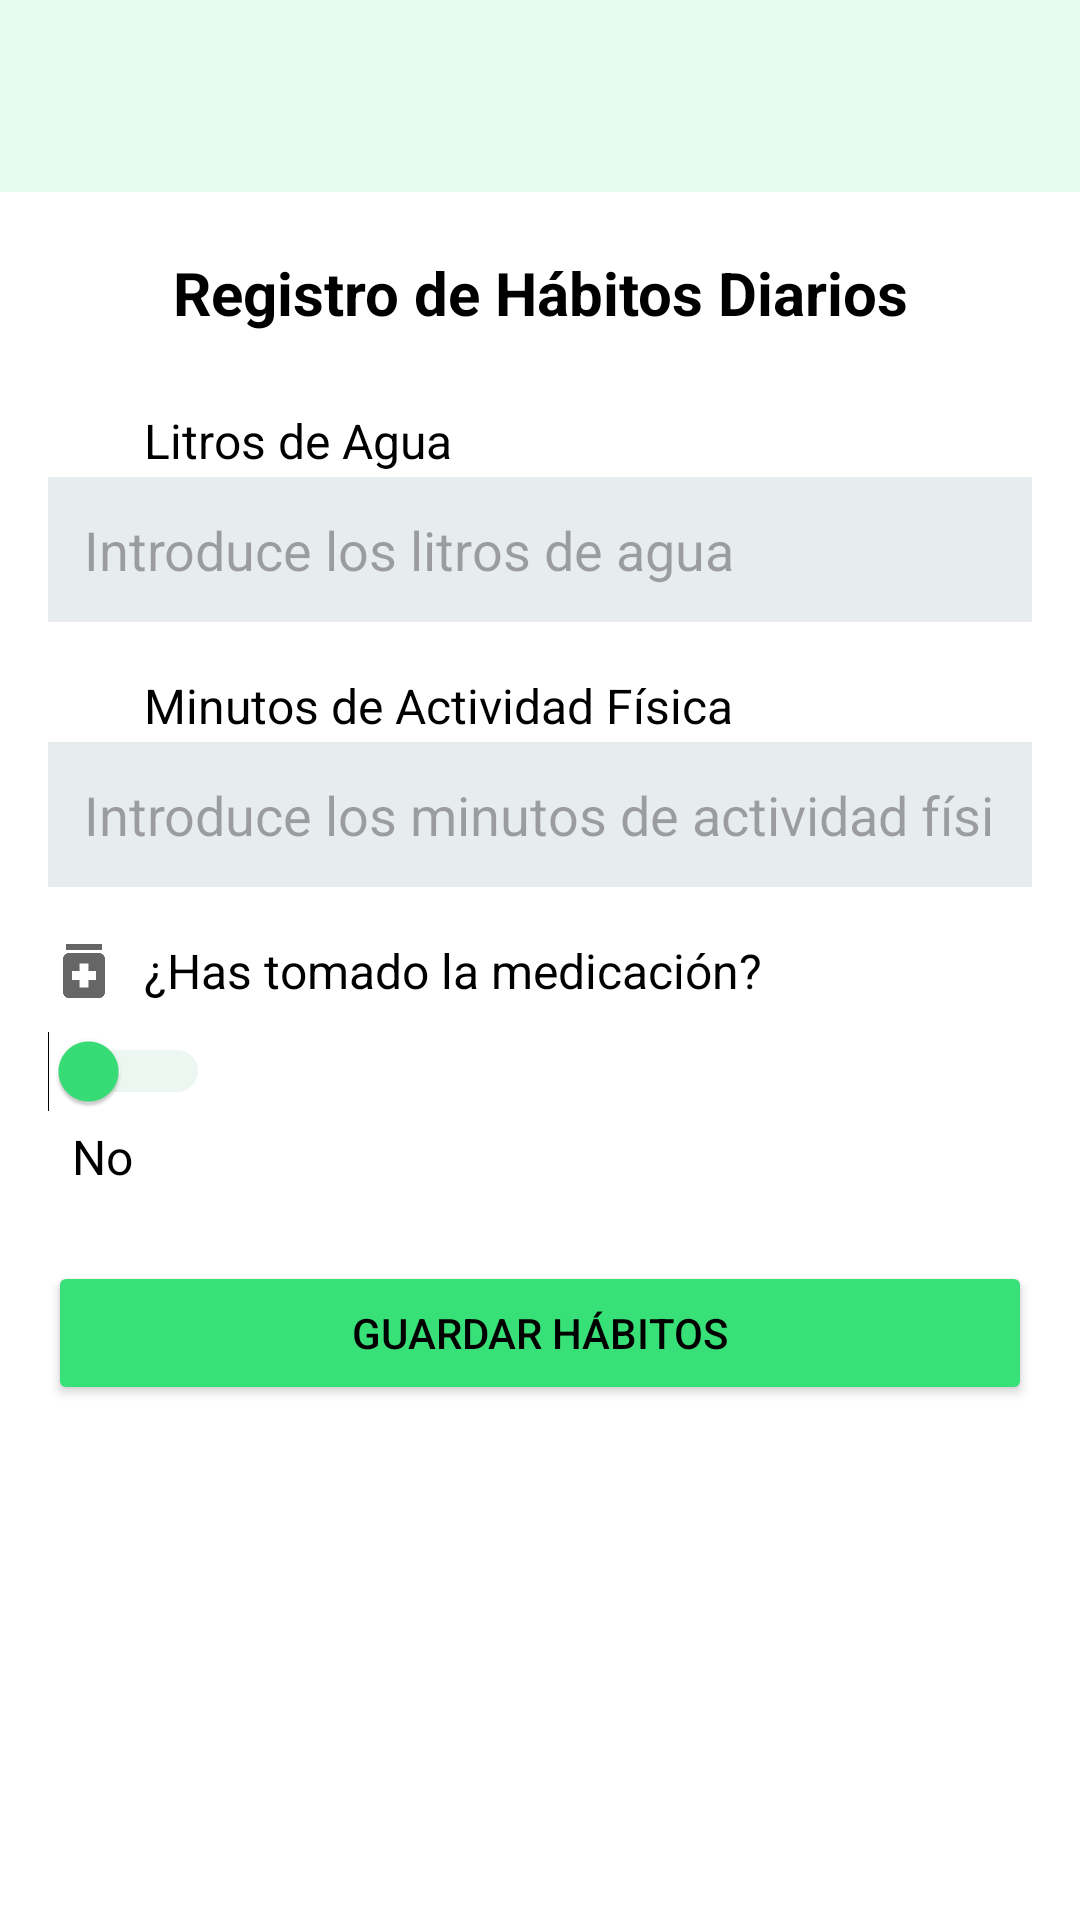

Icon click points for this 1080×1920 phone screenshot, format (x=x, y=y):
medication: (x=84, y=971)
